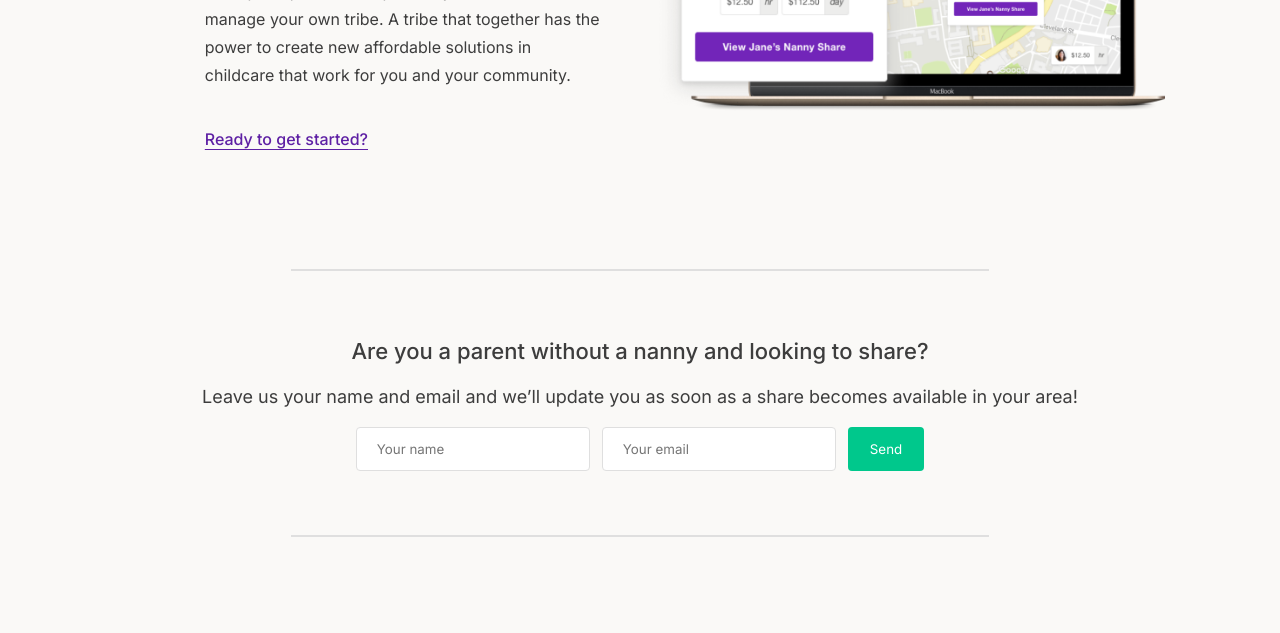
Test: Tests newsletter input validation warning › Checks if attempt with invalid inputs returns warning
The width and height of the screenshot is (1280, 633).
(page scrolled)
Click the button "Send": [886, 449] box left=848, top=427, right=924, bottom=471
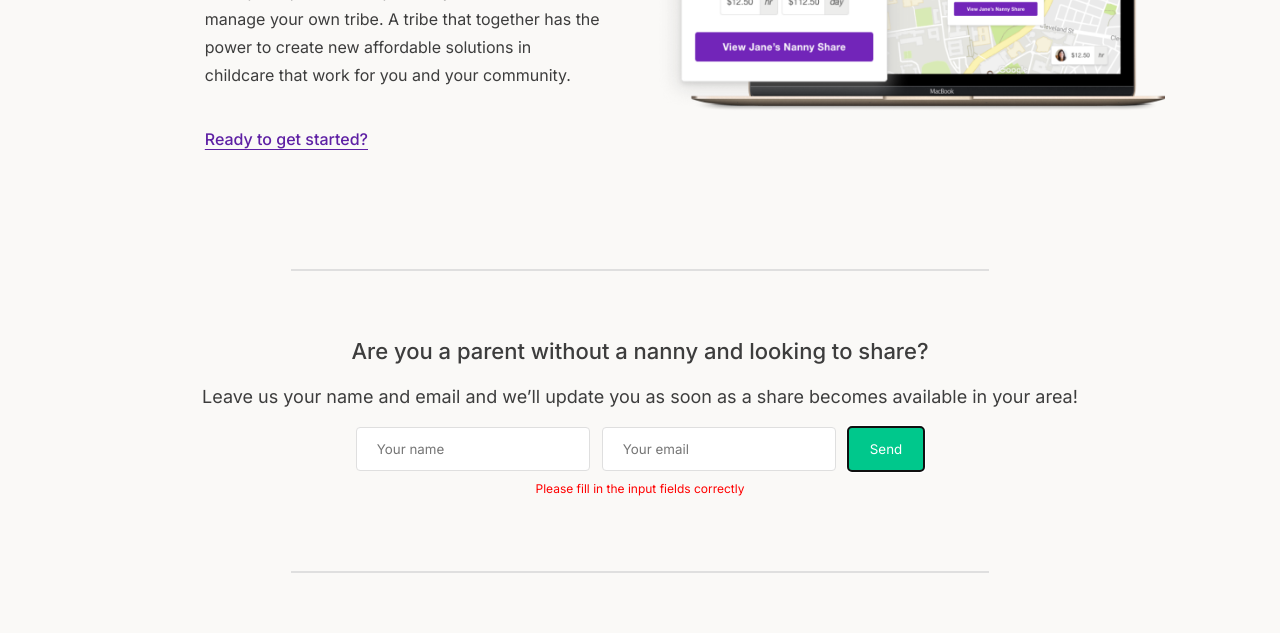
Expected: the text "Please fill in the input fields correctly" is shown, left=536, top=481, right=744, bottom=496
In the field with placeholder "Your name": [473, 449] box left=356, top=427, right=590, bottom=471, type "user"
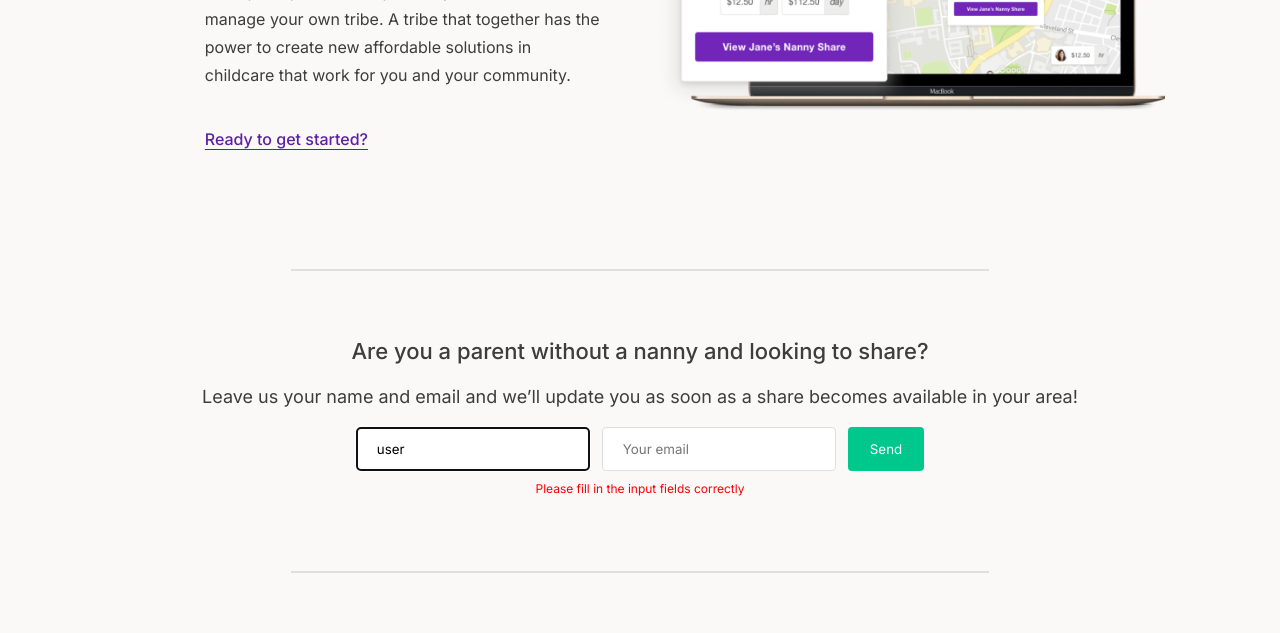
Click the button "Send": [886, 449] box left=848, top=427, right=924, bottom=471
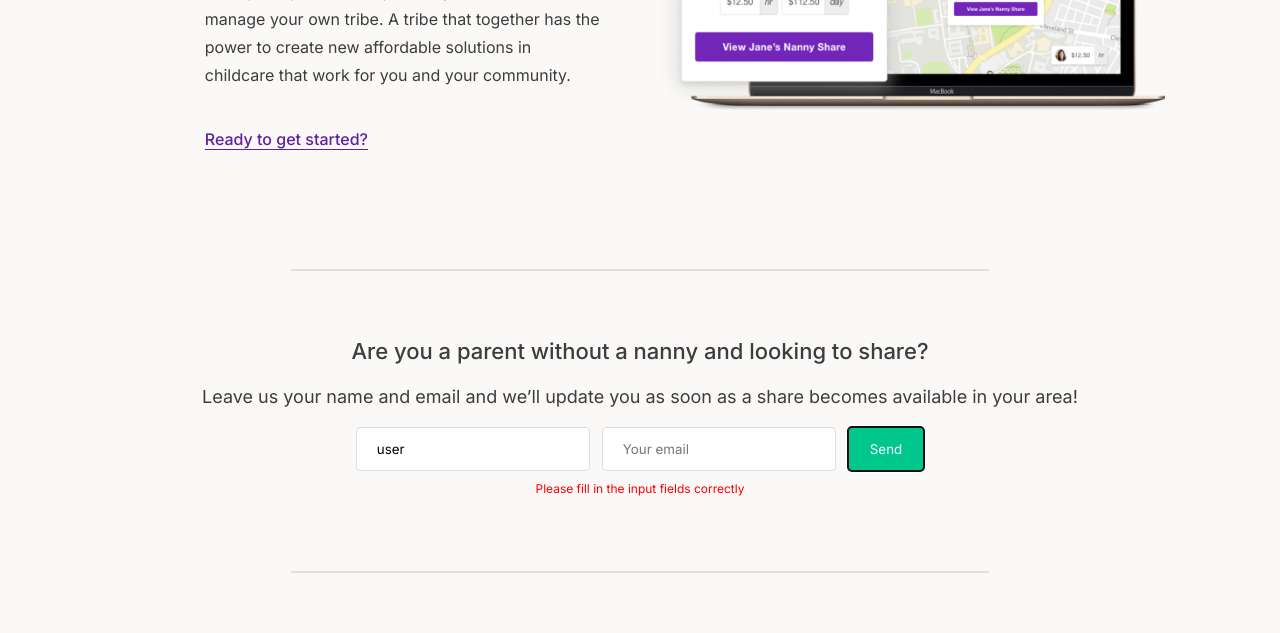
Expected: the text "Please fill in the input fields correctly" is shown, left=536, top=481, right=744, bottom=496
In the field with placeholder "Your email": [719, 449] box left=602, top=427, right=836, bottom=471, type "user@mail.com"
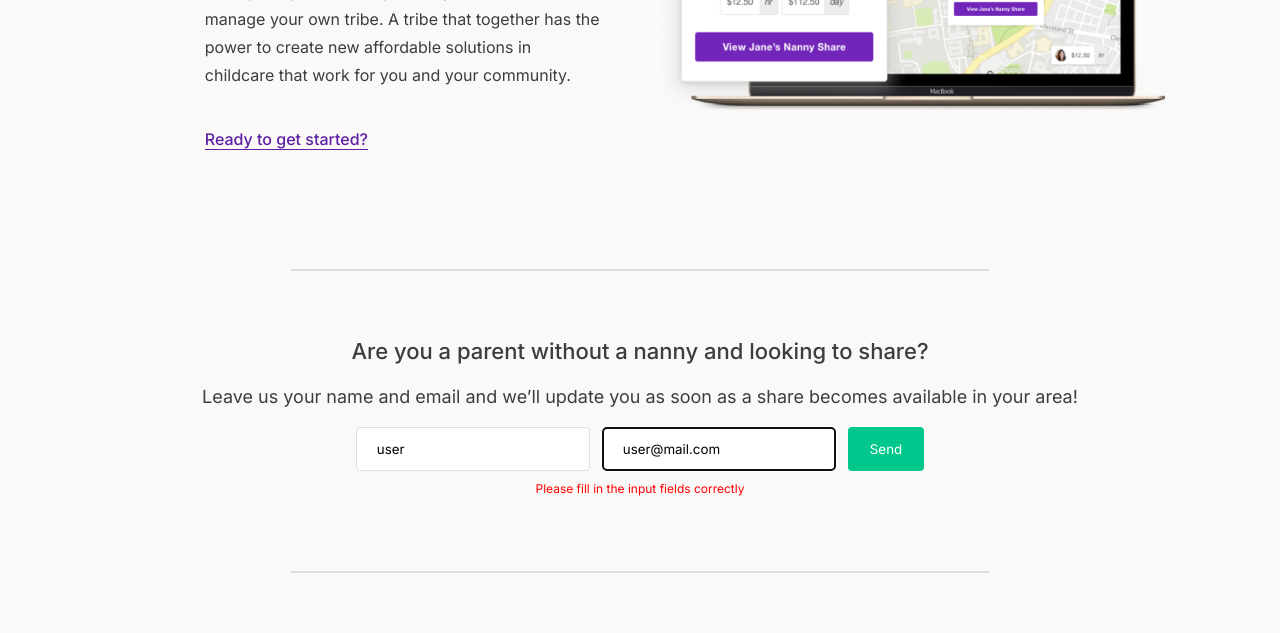
Click the button "Send": [886, 449] box left=848, top=427, right=924, bottom=471
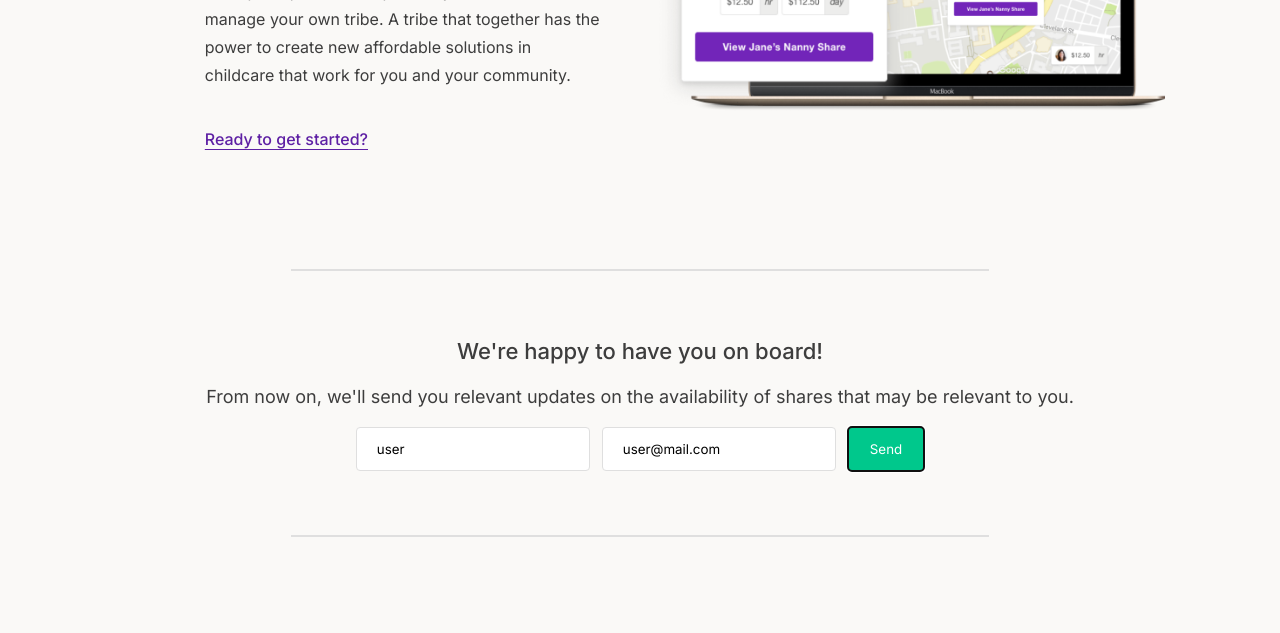
Expected: the text "Please fill in the input fields correctly" is gone
